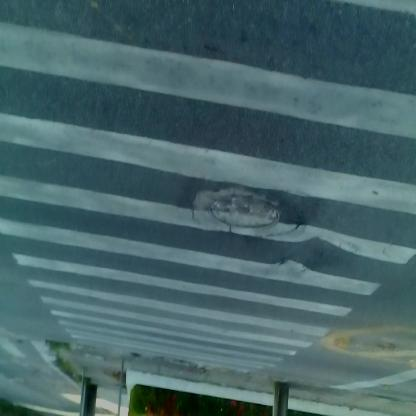crosswalk: (16, 26, 416, 339)
sidewalk: (46, 345, 397, 401)
